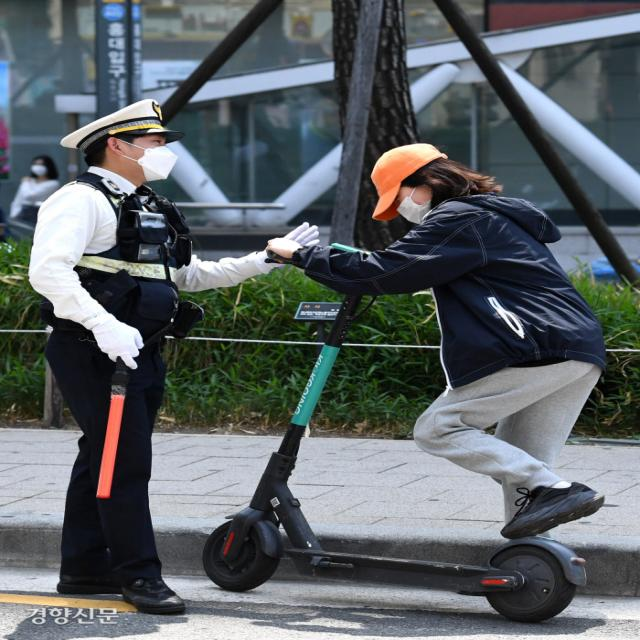non-helmet: (188, 136, 628, 630)
